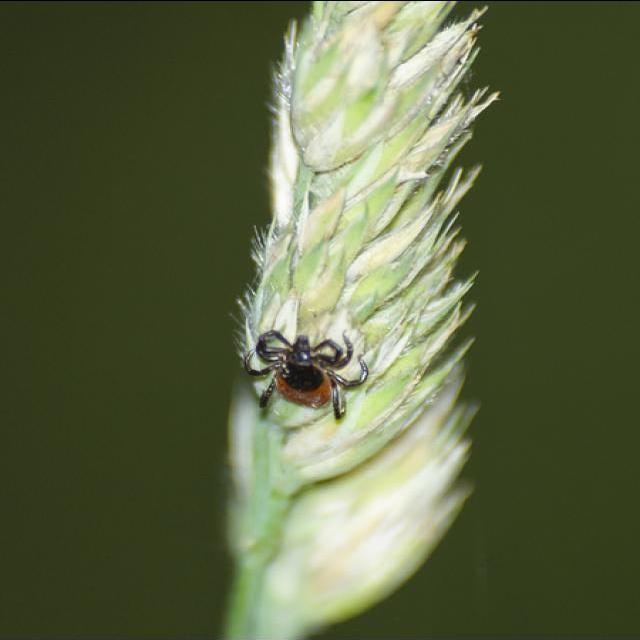Ixodes Ricinus-F: (235, 315, 370, 428)
